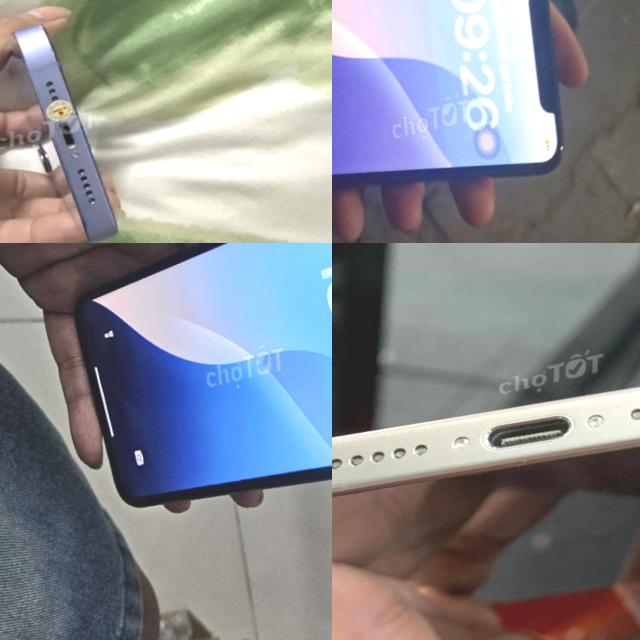scratch: (572, 440, 582, 447), (338, 483, 349, 489)
